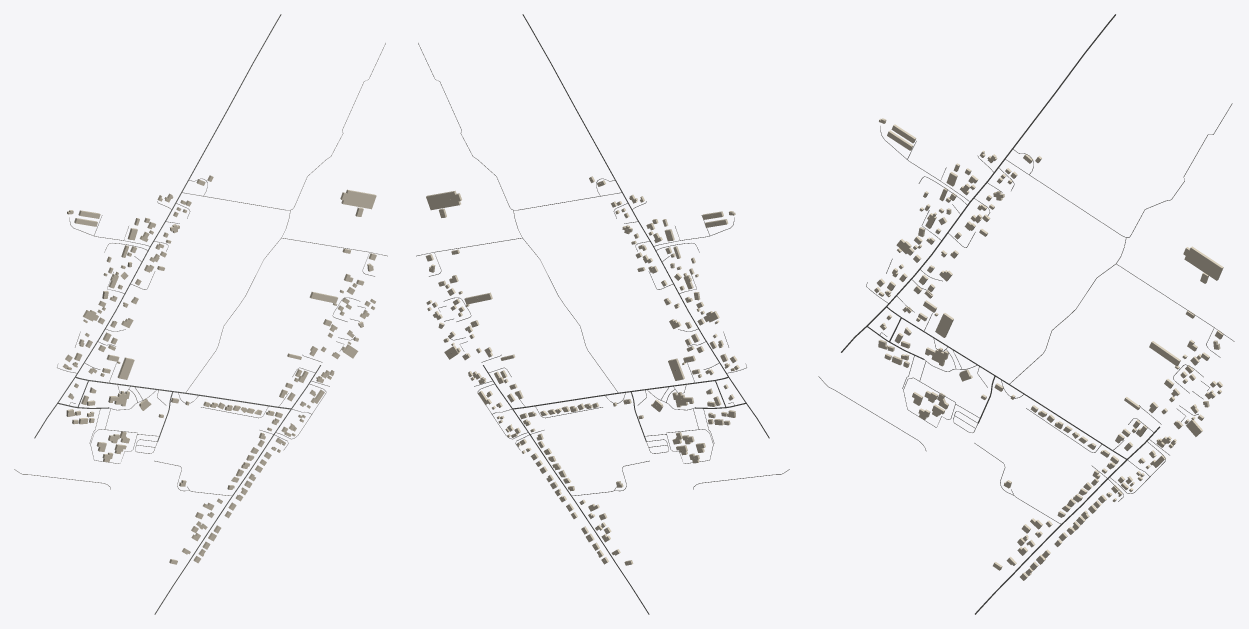
Rendered from historic-palestine-06_24_3480_3184.glb.
3 renders of one model, left to right at view 1: azimuth 30°, elevation 25°; view 2: azimuth 150°, elevation 25°; view 3: azimuth 330°, elevation 25°, orthographic. The views are drawn at different scales.
Parts seen in each view (by area): view 1: Road התמר, Building_.001; view 2: Road התמר, Building_.001; view 3: Road התמר, Building_.001.
Part boxes in pixels (box(x1,y1,x2,y2)): Road התמר: box(34, 14, 281, 438); Building_.001: box(340, 189, 376, 209); Road התמר: box(522, 14, 769, 438); Building_.001: box(426, 190, 461, 210); Road התמר: box(841, 14, 1115, 352); Building_.001: box(1183, 246, 1223, 280).
Bounding box in the file's own units: 1131 × 1648 × 8.7.
